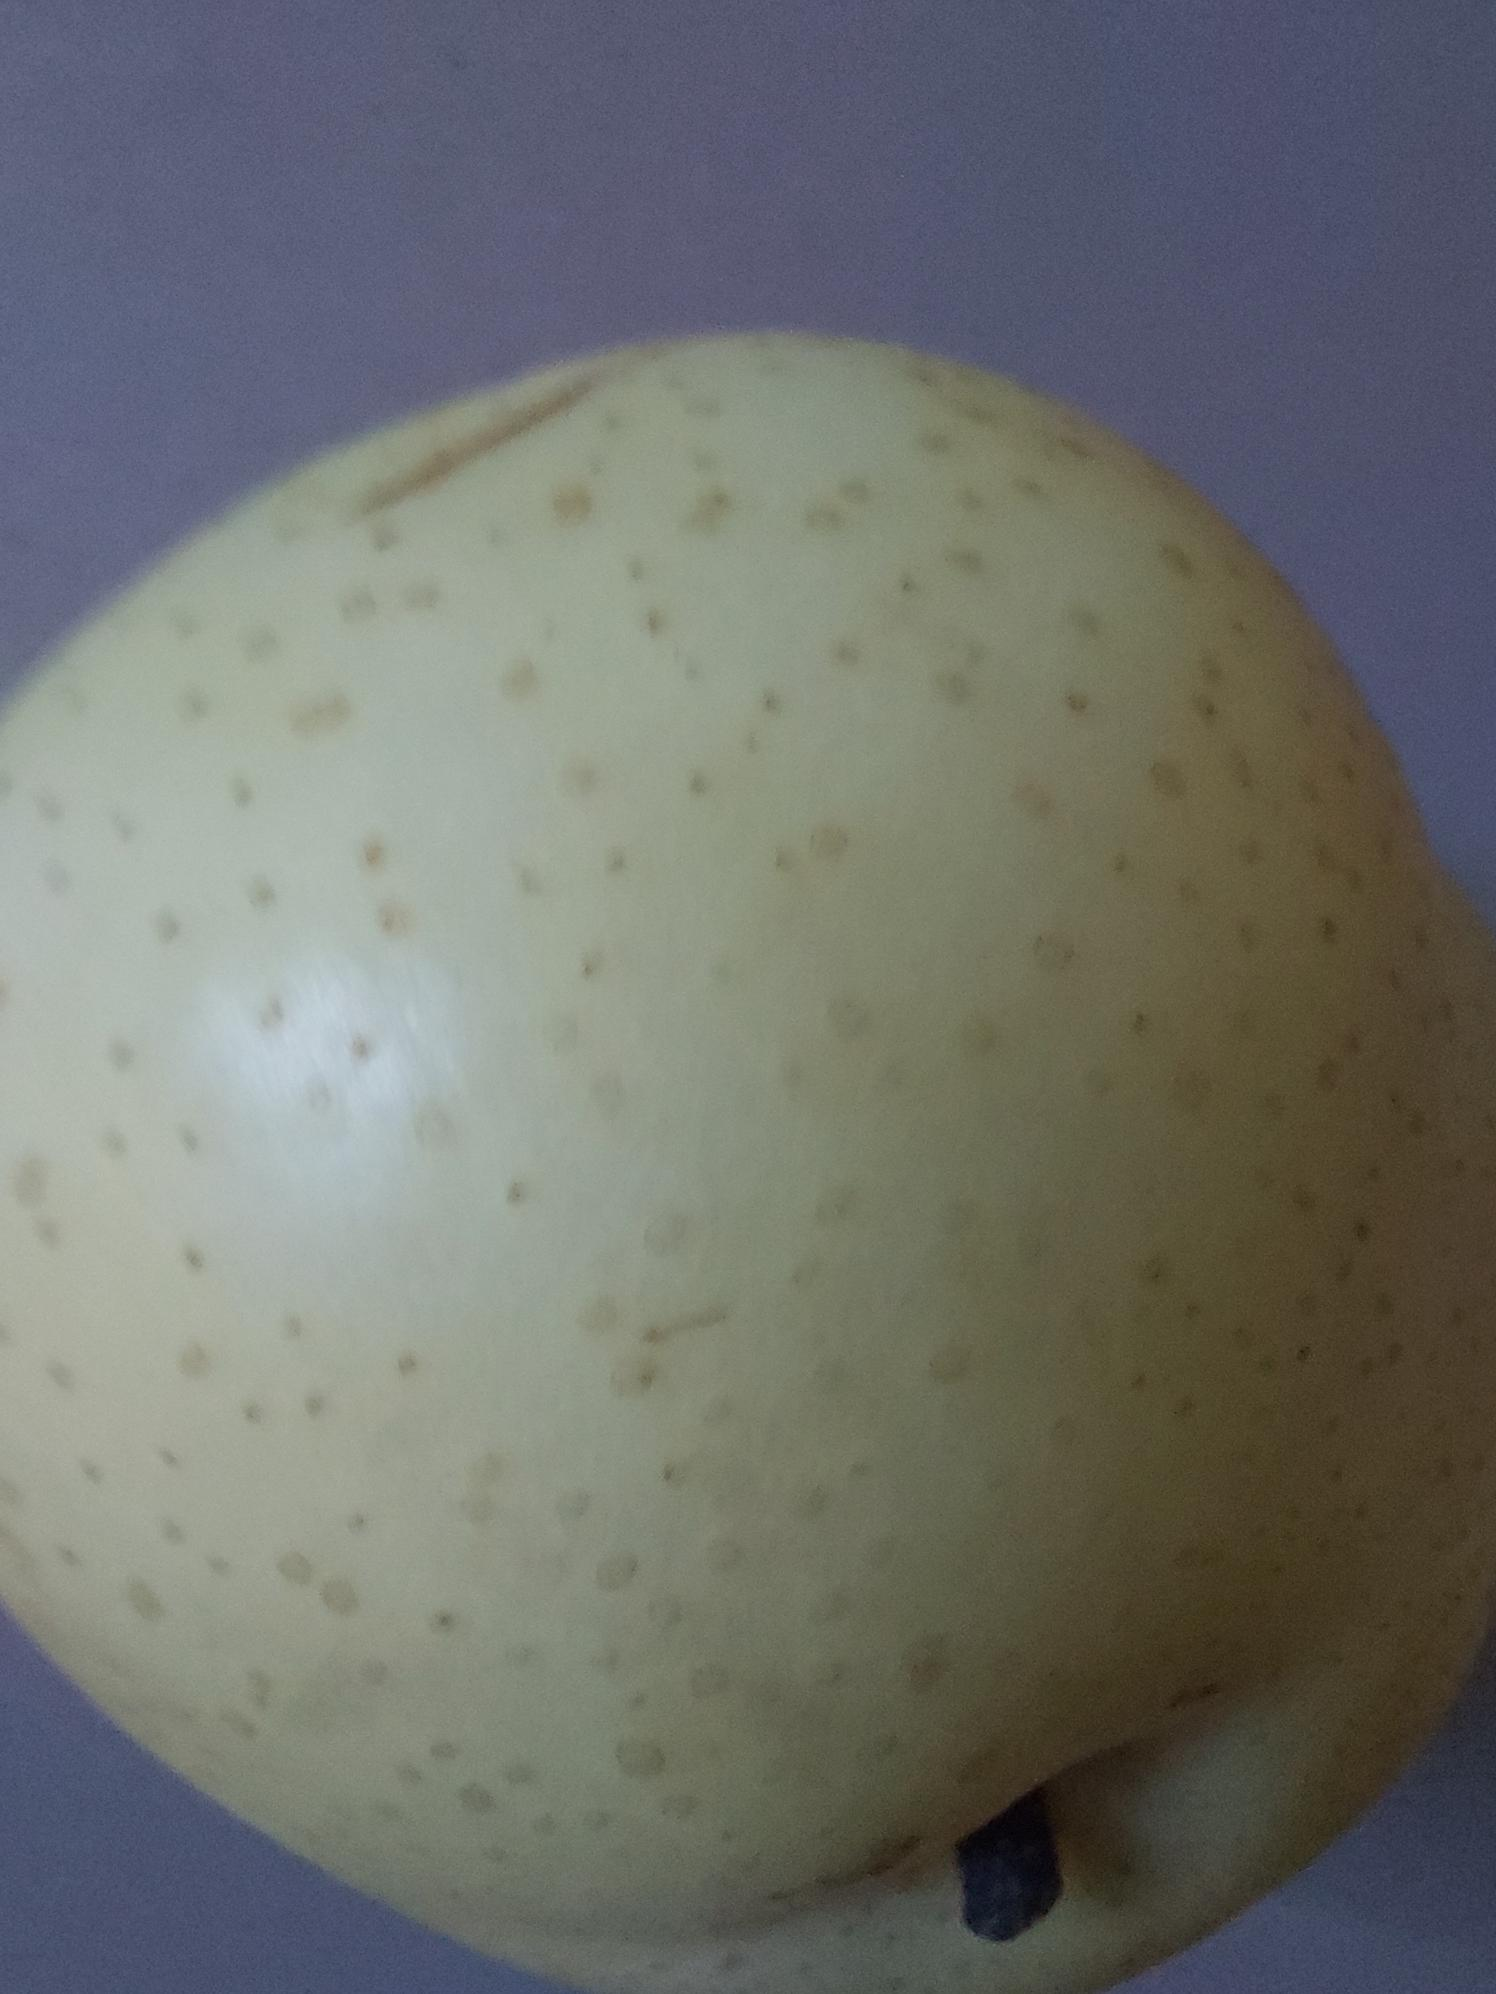Good Pear: (0, 284, 1496, 1994)
